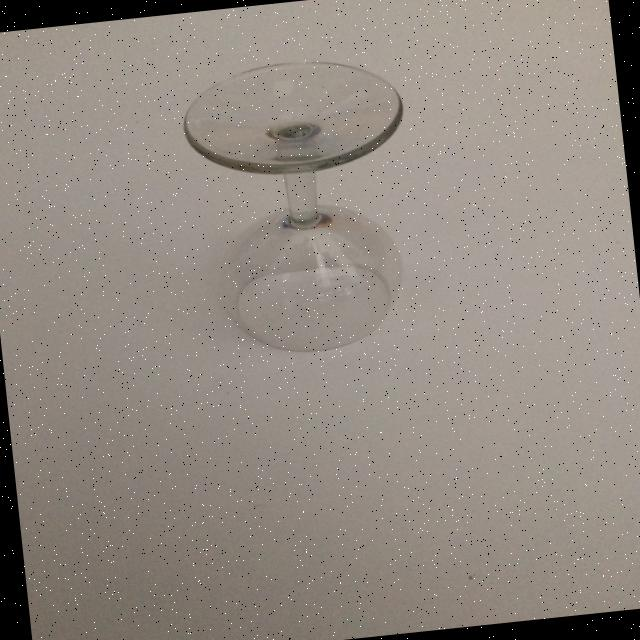glass: (176, 50, 428, 362)
